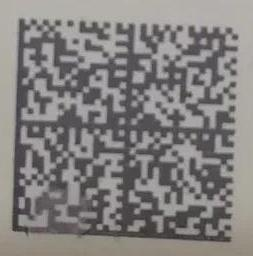datamatrix: (11, 18, 240, 243)
